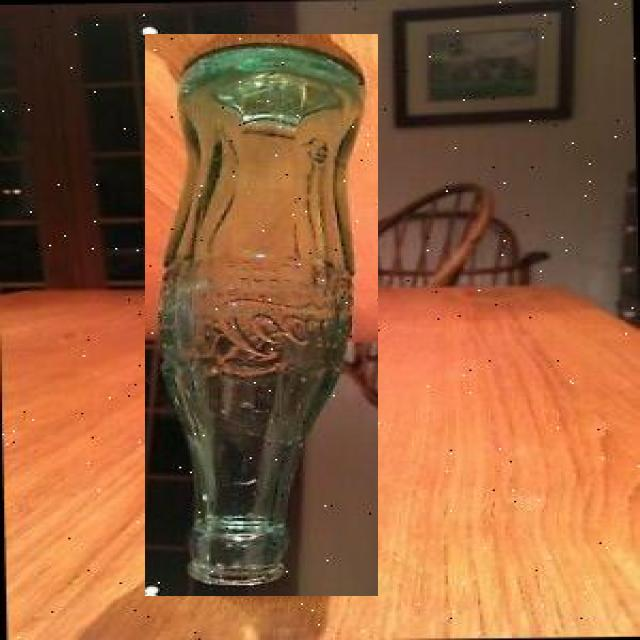coca-cola: (145, 34, 378, 596)
